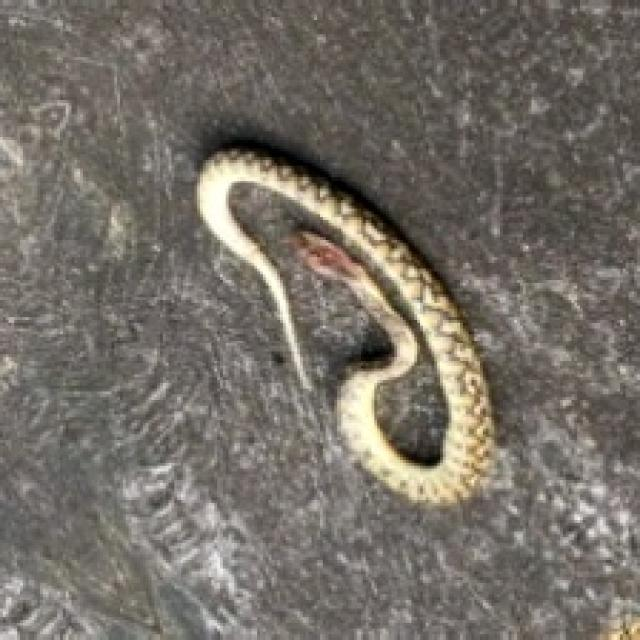reticulated python: (197, 149, 491, 503), (374, 346, 446, 463)
